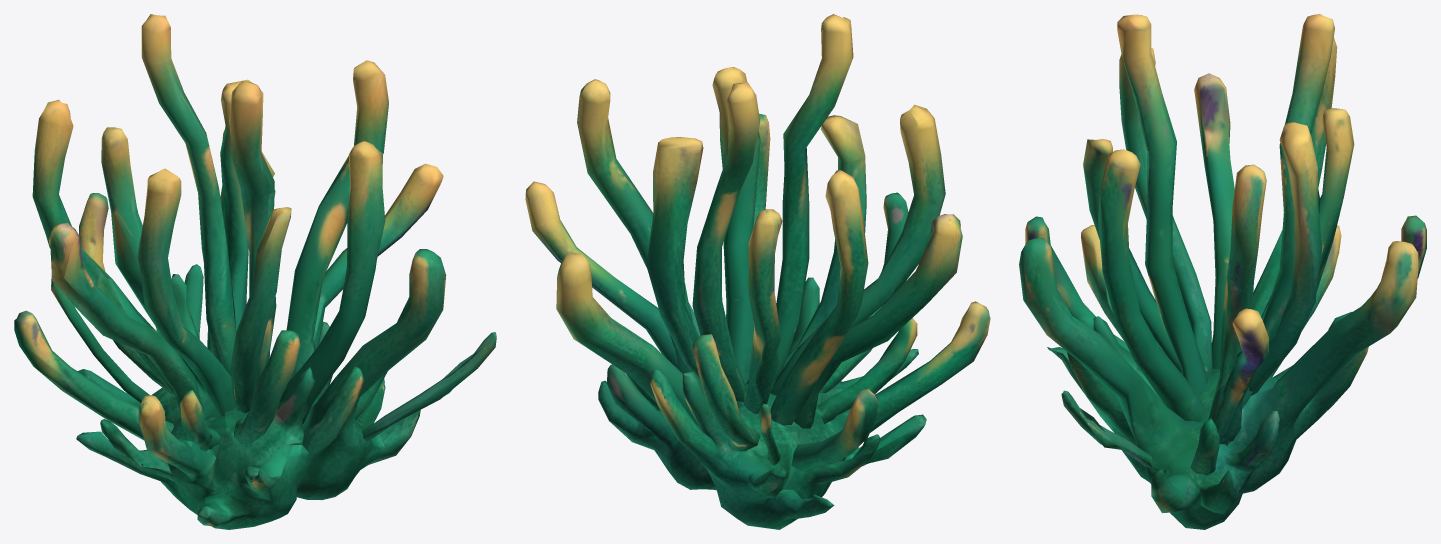
The model's file is fungus-green-coral.gltf.
The picture shows the model from 3 angles, left to right: view 1: azimuth 30°, elevation 25°; view 2: azimuth 150°, elevation 25°; view 3: azimuth 270°, elevation 25°; orthographic projection.
Visible parts, largest first — view 1: fungus-green-coral; view 2: fungus-green-coral; view 3: fungus-green-coral.
Boxes of the visible parts, x1,y1,x2,y2 form: fungus-green-coral: [14, 14, 496, 529]; fungus-green-coral: [525, 14, 990, 529]; fungus-green-coral: [1019, 14, 1426, 529].
Bounding box in the file's own units: 0.5396 × 0.5933 × 0.4663.
Materials: 1 (1 with a texture image).
